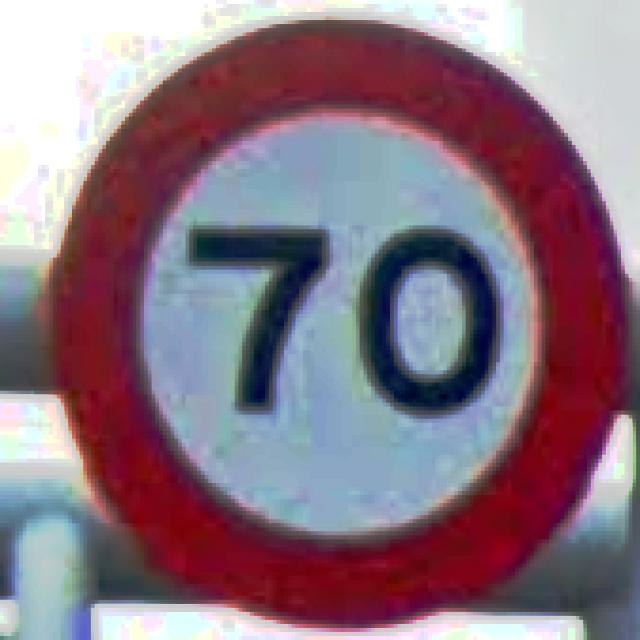max70: (38, 8, 636, 628)
